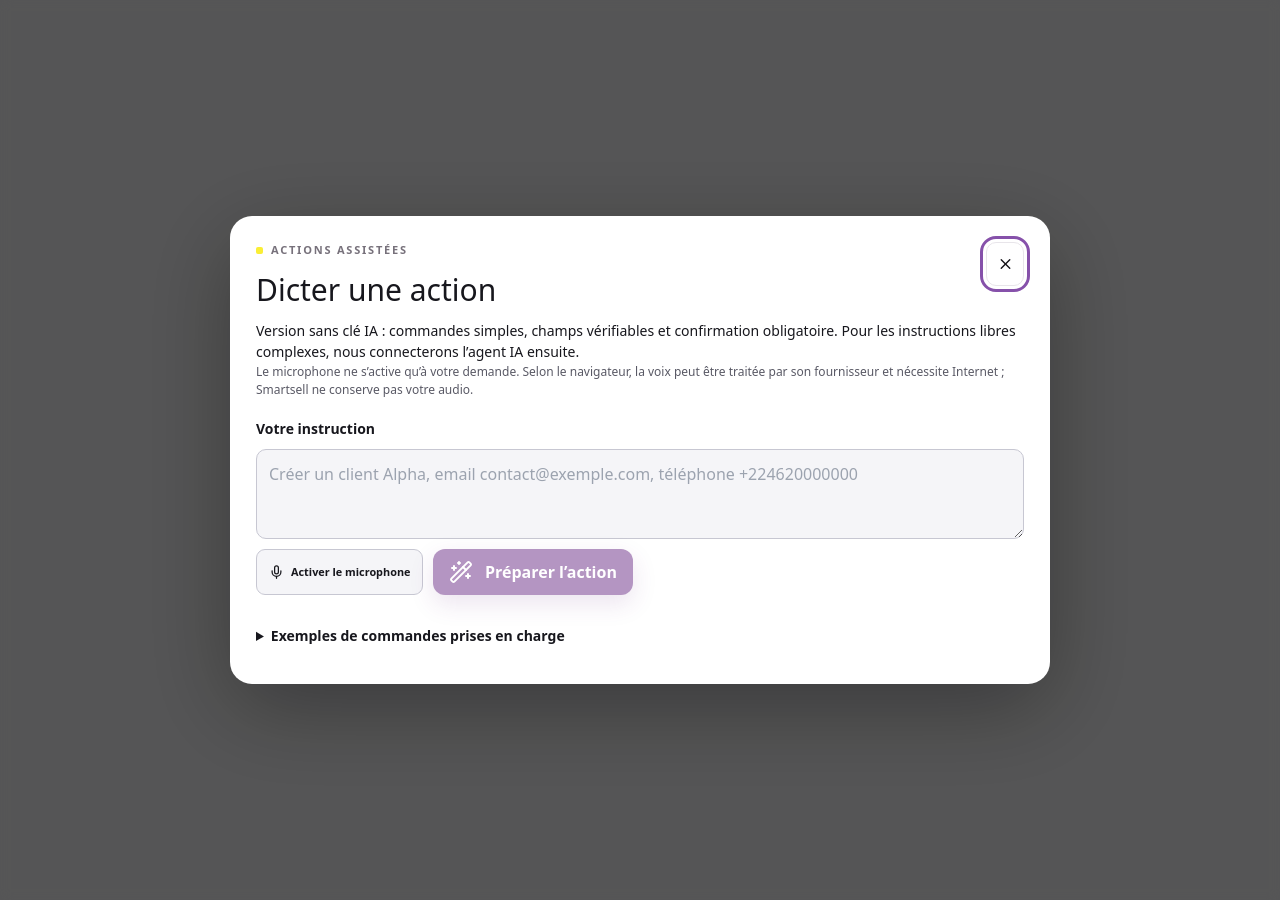
actions assistées sans clé IA › offre un repli clavier lorsque la dictée est indisponible, sans activation automatique
The image size is (1280, 900).
What coordinates should you click on to do the following:
click the button "Activer le microphone"
I would click on:
 (340, 572)
Its box is [256,549,424,595].
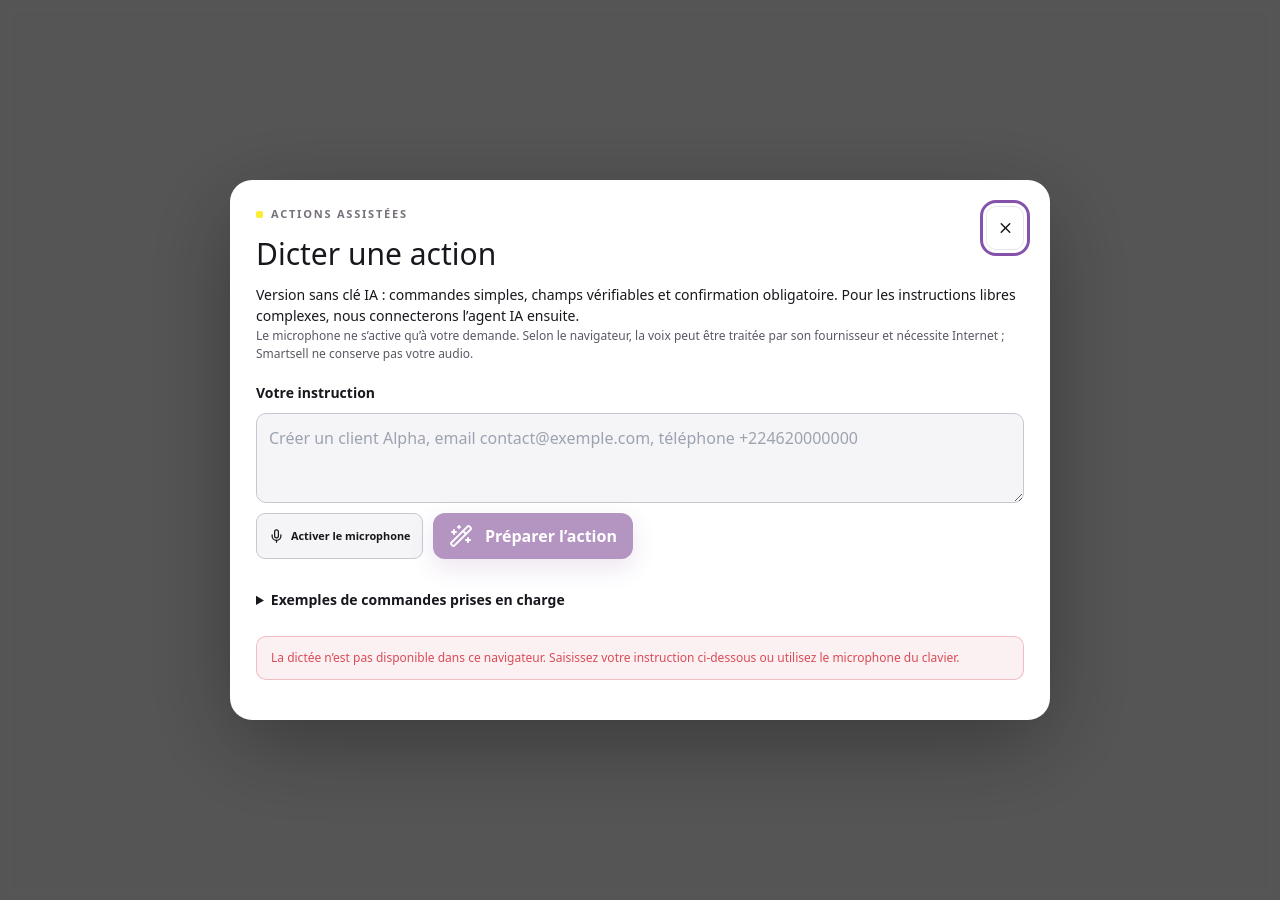
Result: the message shows "Saisissez votre instruction" at [271,649,960,666]
